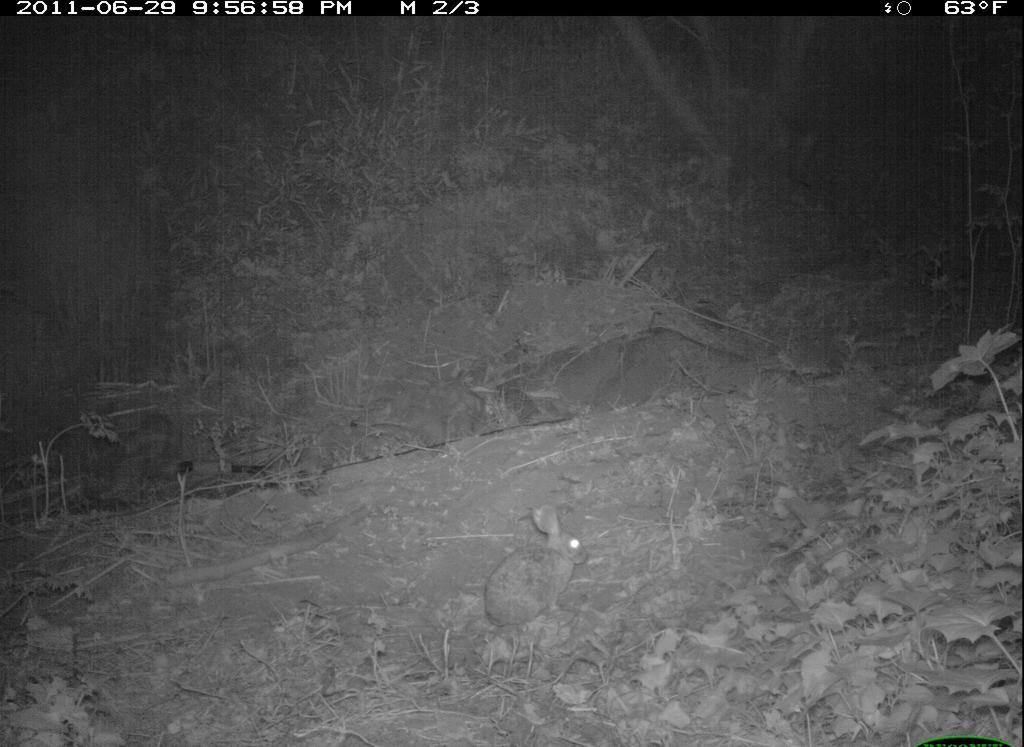rabbit: (474, 502, 594, 641)
